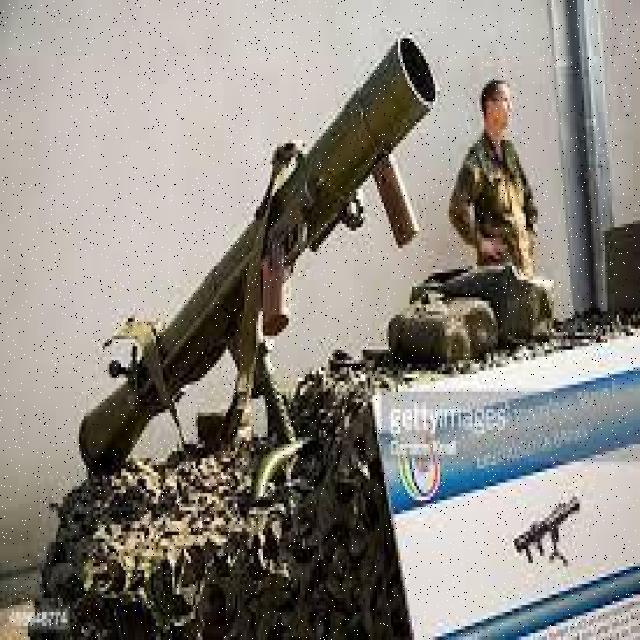bazooka: (69, 35, 445, 504)
